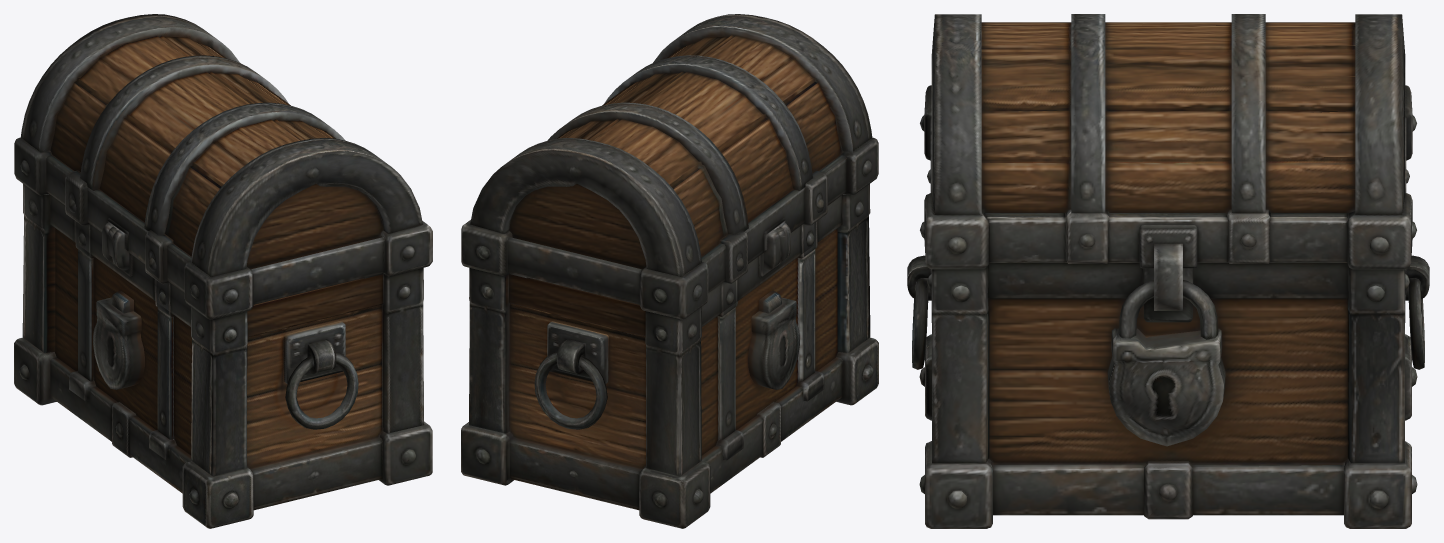
File: SM_Env_HeorotIronBoundChest.fbx
3 renders of one model, left to right at view 1: azimuth 30°, elevation 25°; view 2: azimuth 150°, elevation 25°; view 3: azimuth 270°, elevation 25°, orthographic. The views are drawn at different scales.
Visible parts, largest first — view 1: SM_Env_HeorotIronBoundChest; view 2: SM_Env_HeorotIronBoundChest; view 3: SM_Env_HeorotIronBoundChest.
Part boxes in pixels (x1,y1,x2,y2): SM_Env_HeorotIronBoundChest: (14, 14, 432, 528); SM_Env_HeorotIronBoundChest: (461, 14, 878, 528); SM_Env_HeorotIronBoundChest: (907, 14, 1429, 528).
Size of the model in its own units: 15.23 by 23.07 by 21.
Materials: 1 (1 with a texture image).
